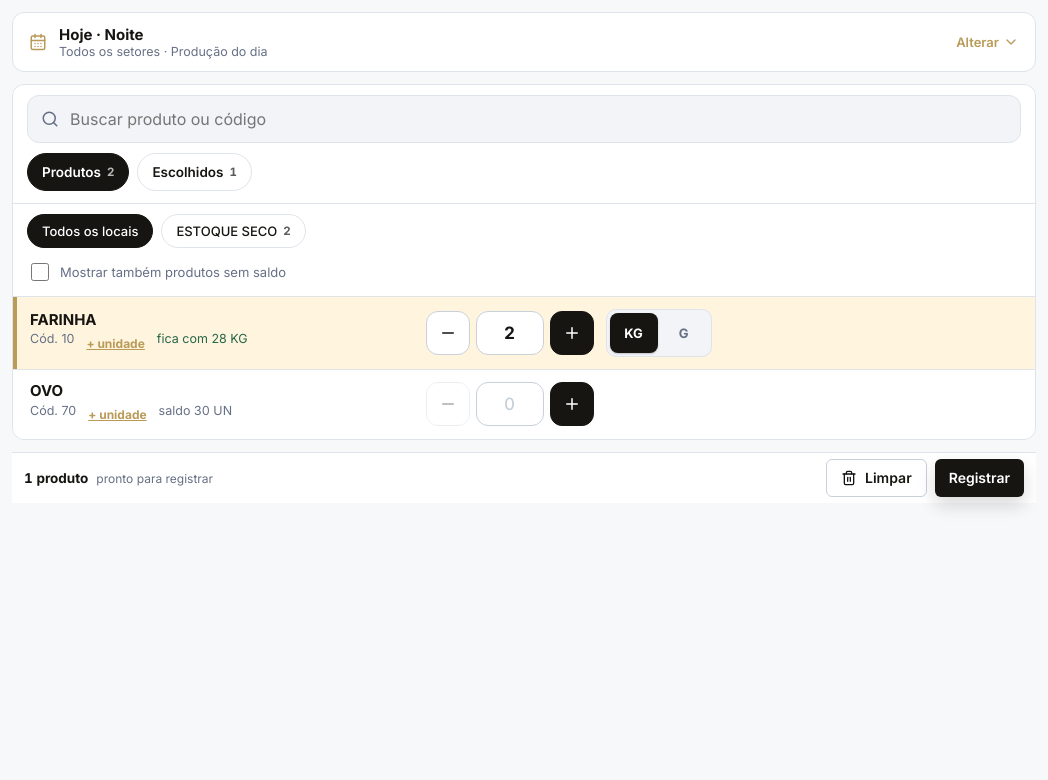
Test: rascunho da requisição salvo no sistema › outra pessoa salvou antes: avisa e deixa escolher entre a versão dela e a minha
Replace the text in the field named "Quantidade de FARINHA" with "3" at (510, 333), box [476,311,544,355]
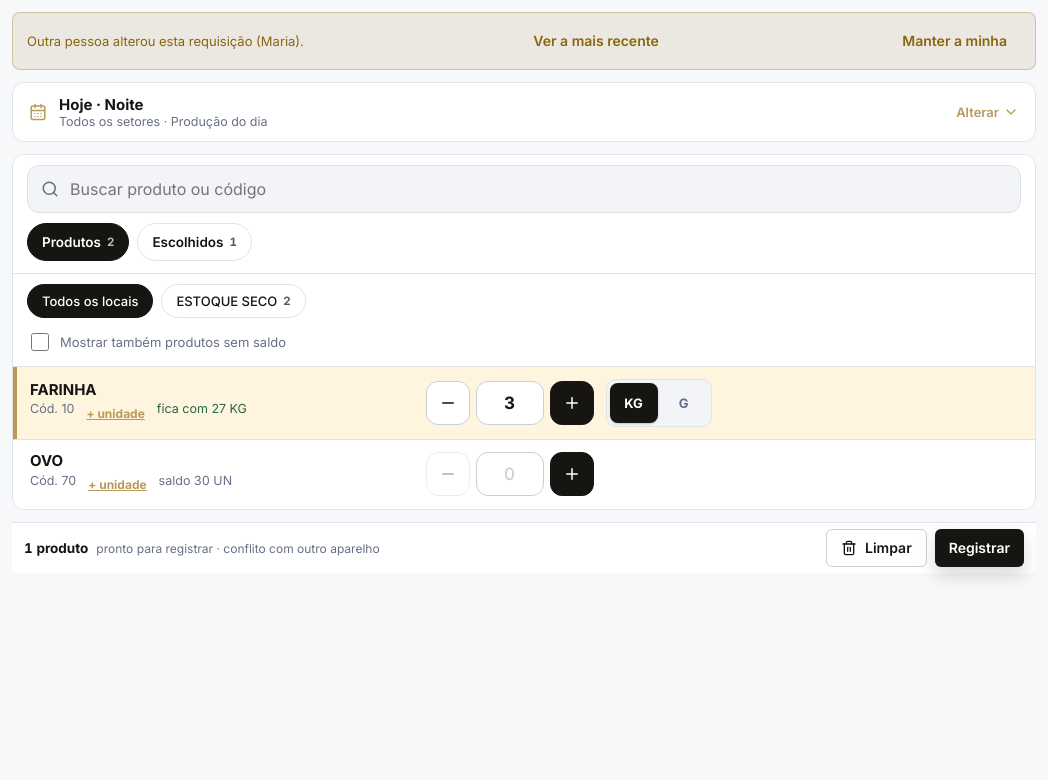
Expected: the text "Outra pessoa alterou esta requisição (Maria)." is shown, [27,32,304,50]
Click the button "Manter a minha" at (955, 41), box [888,23,1021,59]
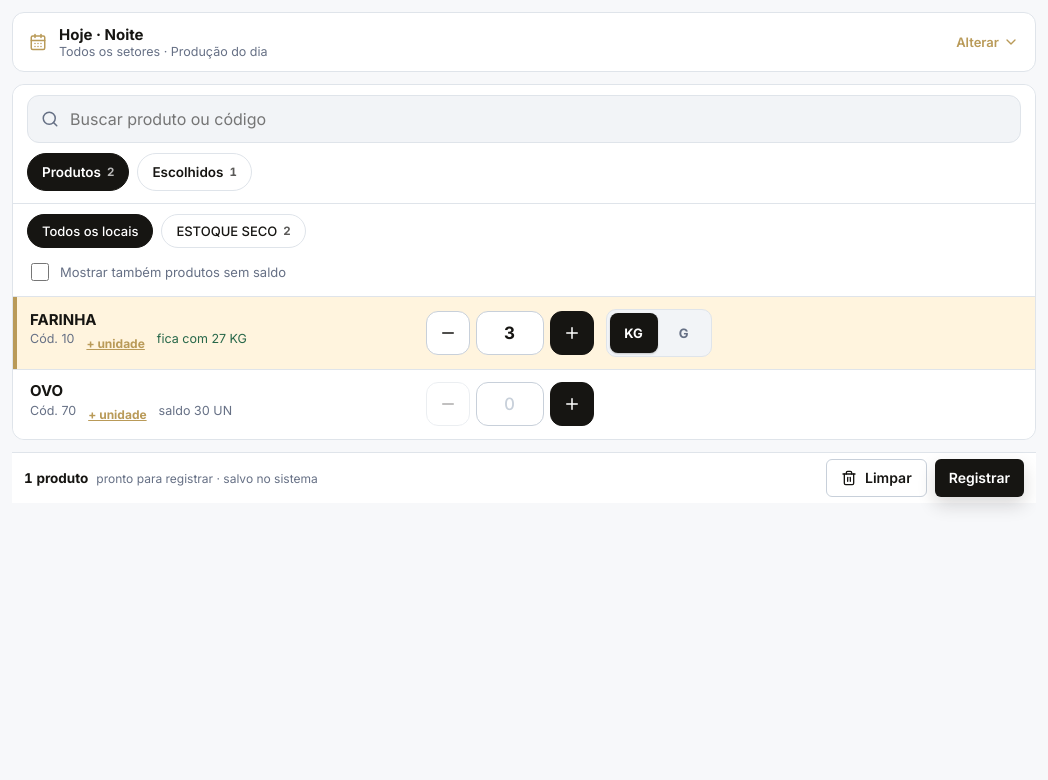
Expected: the text "Outra pessoa alterou" is gone
